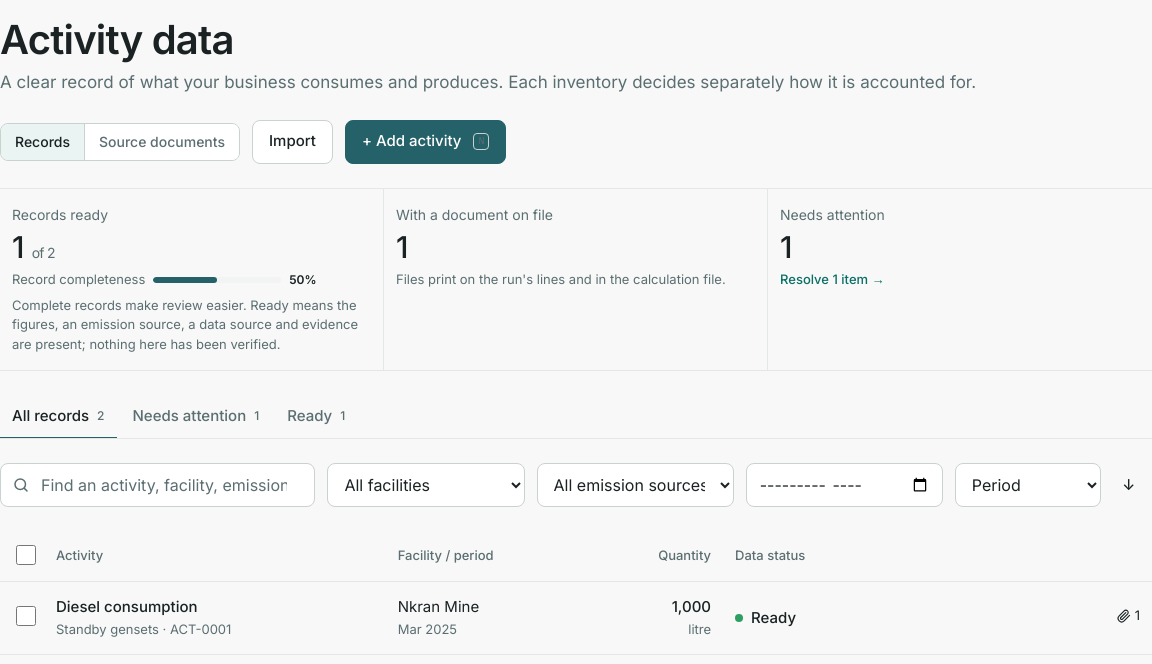
Test: a refused bulk act names the records in the dialog and changes nothing (spec 04.11)
Expected: the button "Diesel consumption" is shown, [56,596,198,618]
Click the checkbox named "Select ACT-0001" at (26, 616), box [16,606,36,626]
(page scrolled)
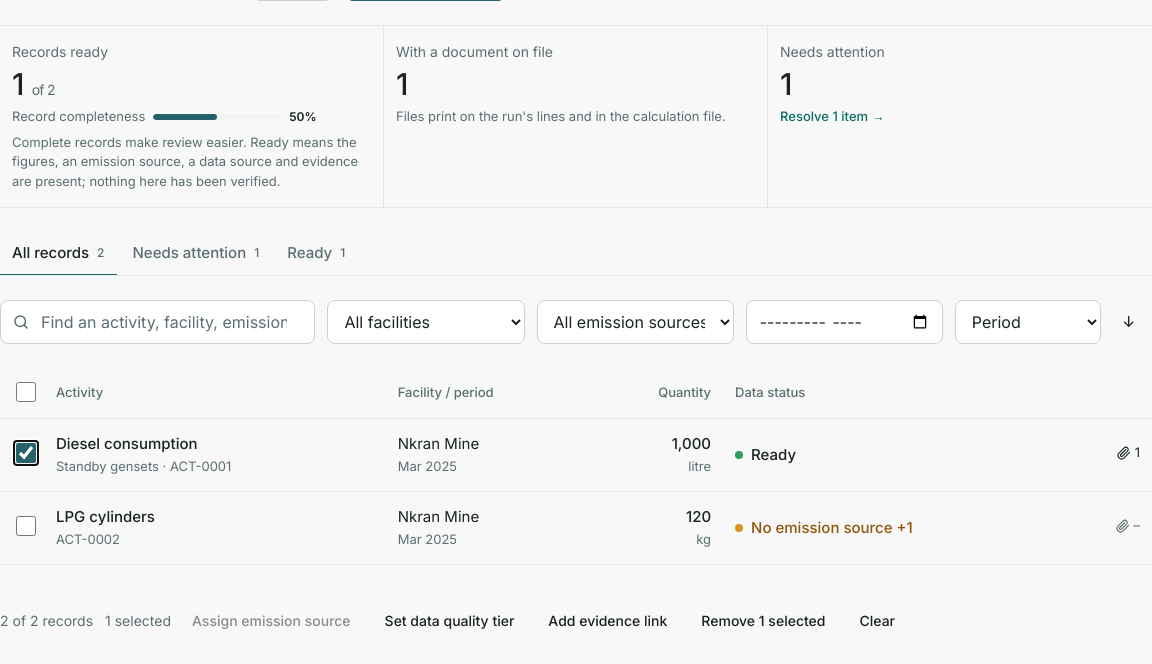
Click the checkbox named "Select ACT-0002" at (26, 526), box [16,516,36,536]
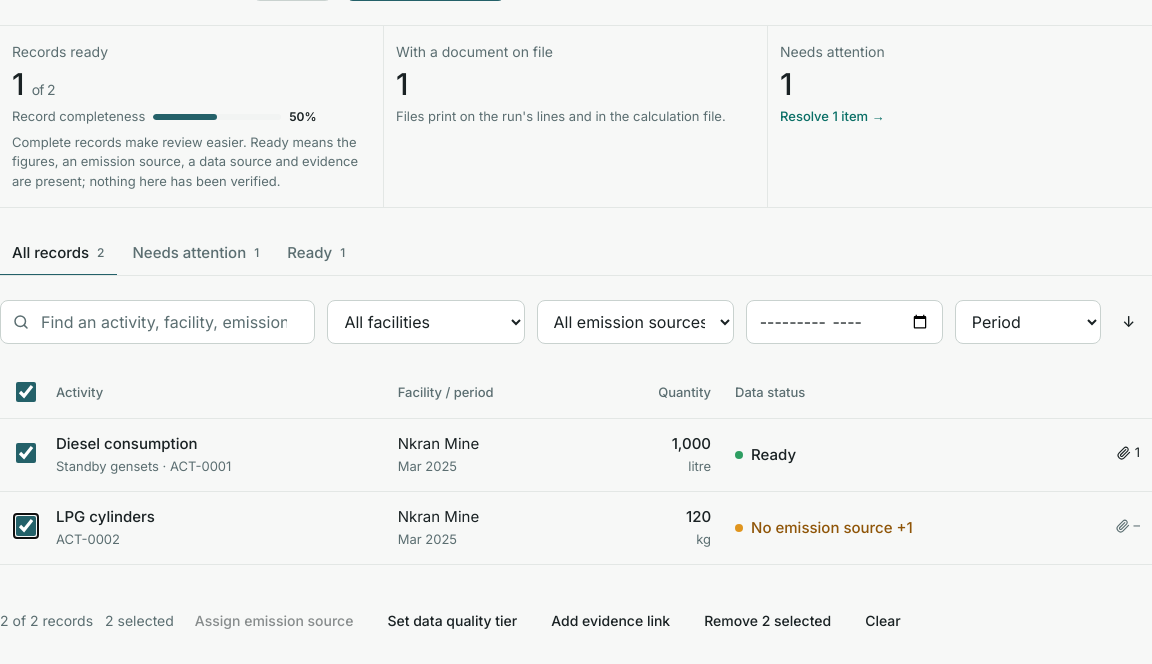
Click the button "Remove 2 selected" at (768, 620), box [691,602,844,638]
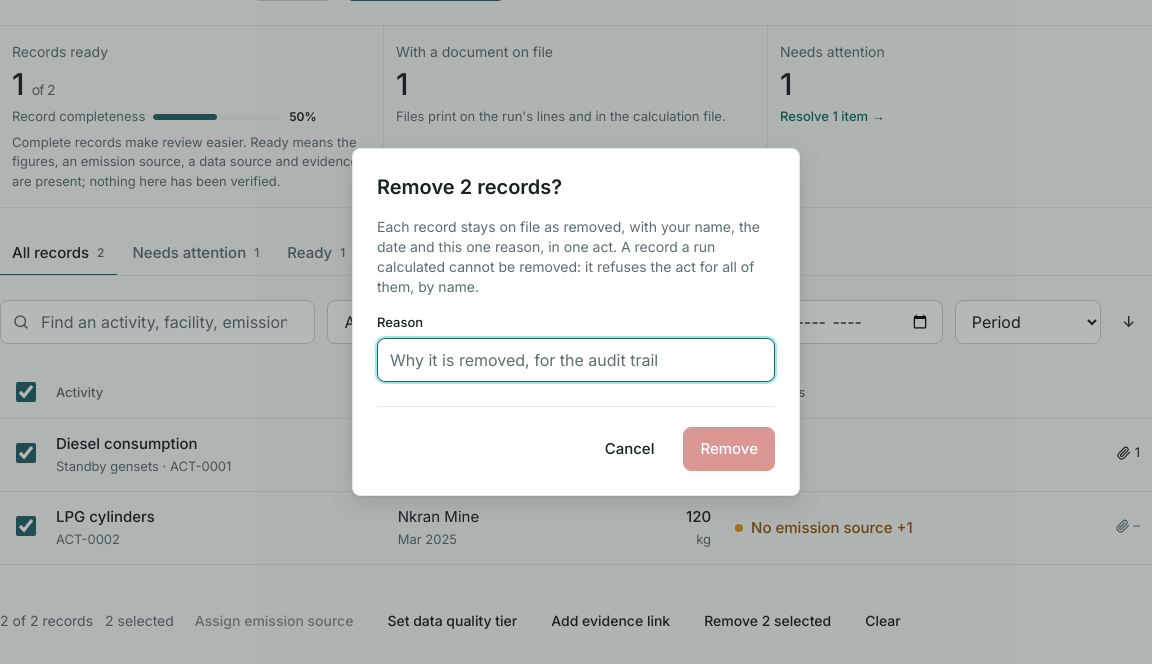
Type "entered twice from the same log" into the field labelled "Reason" at (576, 360), box [377,338,775,382]
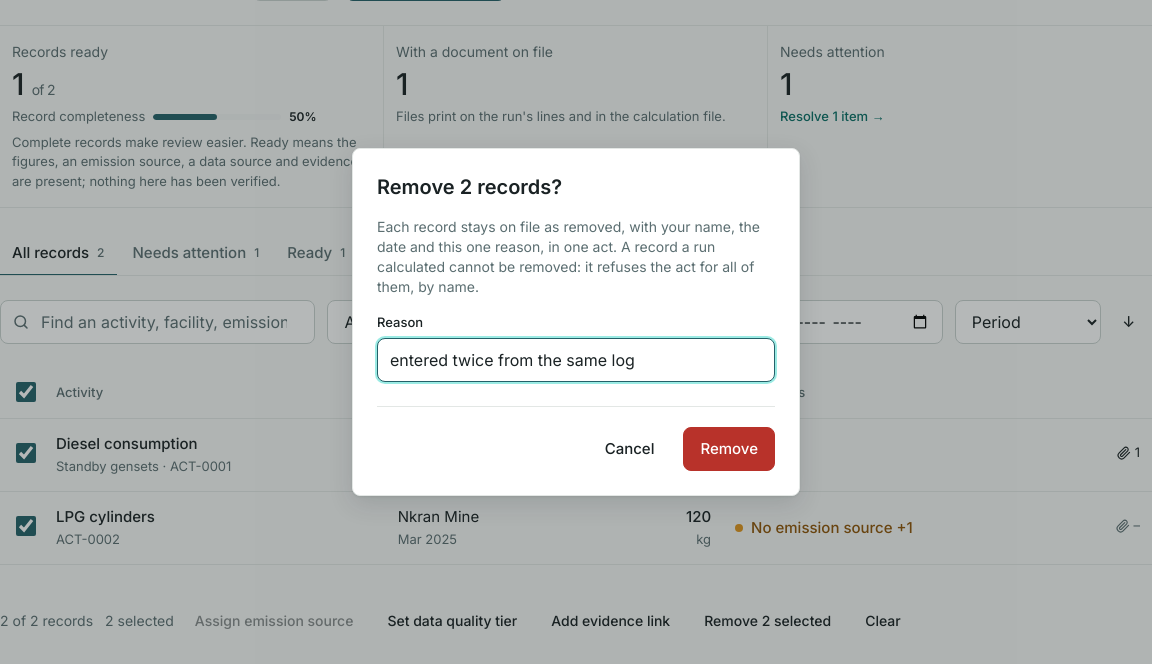
Click the button "Remove" at (729, 449), box [683,427,775,471]
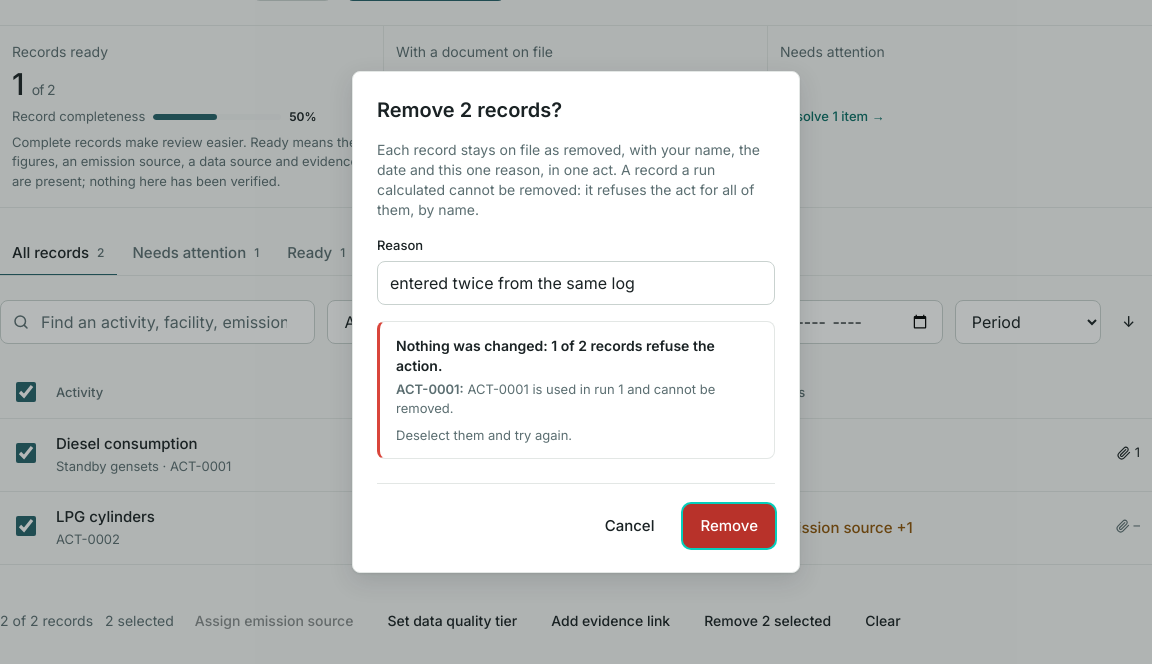
Now the text "Nothing was changed: 1 of 2 records refuse the action." is shown, box [396,336,758,376]
Now the text "ACT-0001:" is shown, box [396,381,464,397]
Now the list item "ACT-0001: ACT-0001 is used in run 1 and cannot be removed." is shown, box [396,380,758,418]
